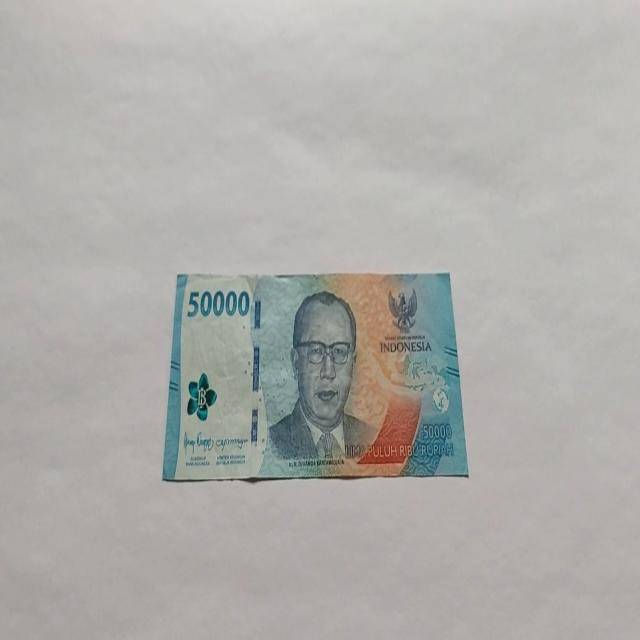lima puluh ribu rupiah: (161, 270, 469, 483), (264, 288, 381, 468)
